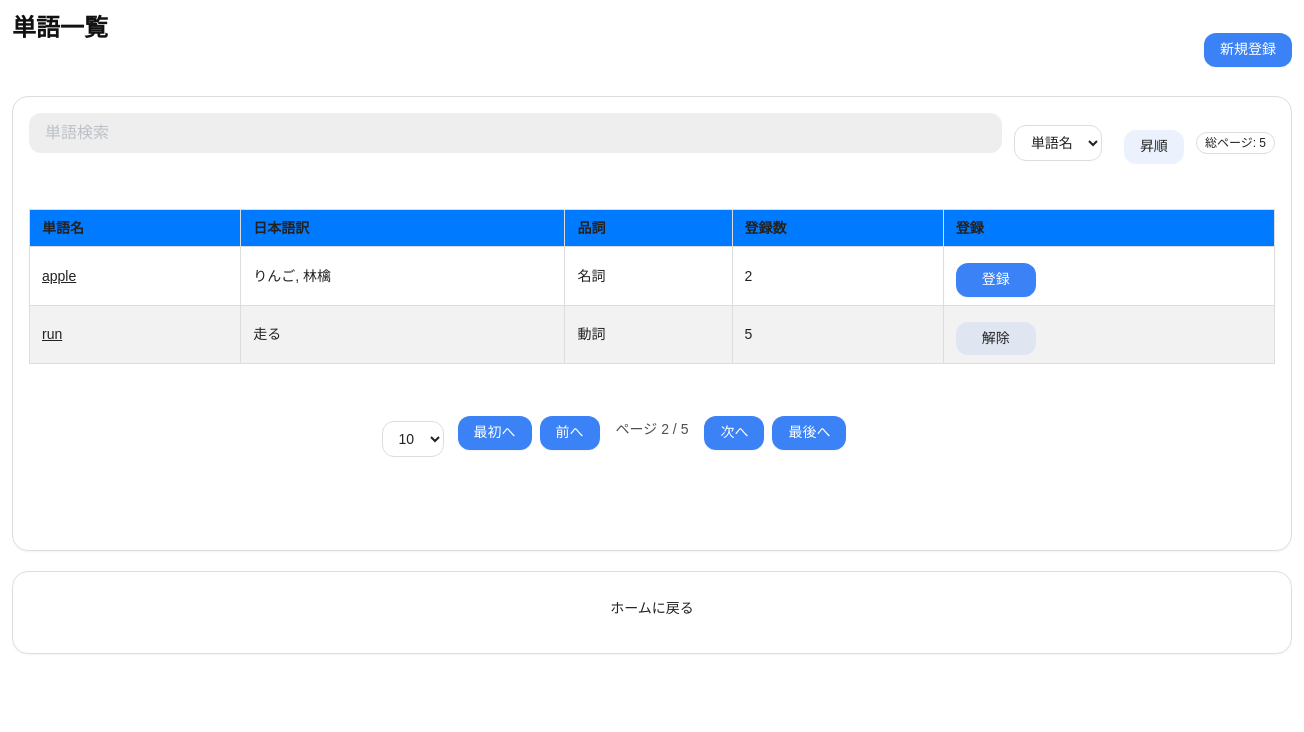
Test: WordList › (4) ソート変更：register を選ぶと page=1 にリセットされる
Check: the heading "単語一覧" is shown, box [12, 12, 108, 44]
Note: register を選ぶ
Select "登録" in the dropdown in the row of "総ページ:" at (1058, 143), box [1014, 125, 1102, 161]
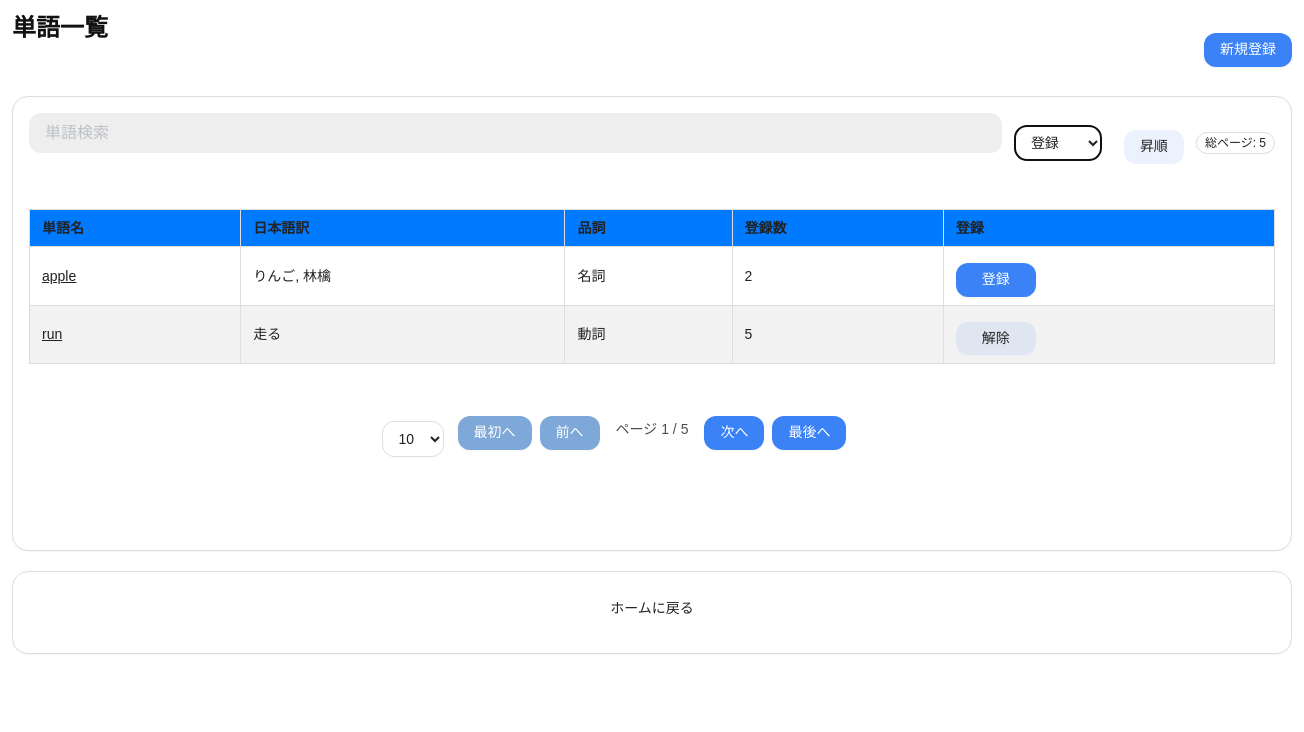
Check: the text "ページ 1 / 5" is shown, box [616, 421, 688, 437]
